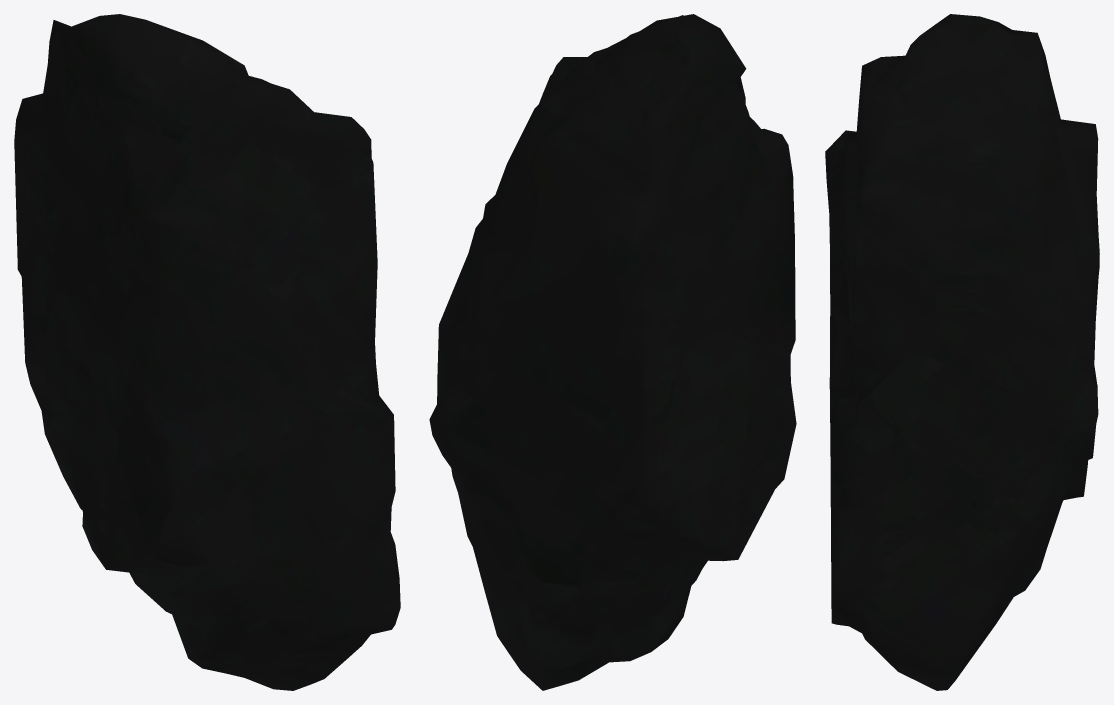
3 renders of one model, left to right at view 1: azimuth 30°, elevation 25°; view 2: azimuth 150°, elevation 25°; view 3: azimuth 270°, elevation 25°, orthographic. The views are drawn at different scales.
Parts seen in each view (by area): view 1: SM_LimestoneMid_04_LOD0; view 2: SM_LimestoneMid_04_LOD0; view 3: SM_LimestoneMid_04_LOD0.
Part boxes in pixels (x1=…): SM_LimestoneMid_04_LOD0: x1=14, y1=14, x2=400, y2=690; SM_LimestoneMid_04_LOD0: x1=429, y1=14, x2=796, y2=690; SM_LimestoneMid_04_LOD0: x1=825, y1=14, x2=1099, y2=690.
Bounding box in the file's own units: 2.19 × 6.19 × 2.54.
Materials: 1 (1 with a texture image).
